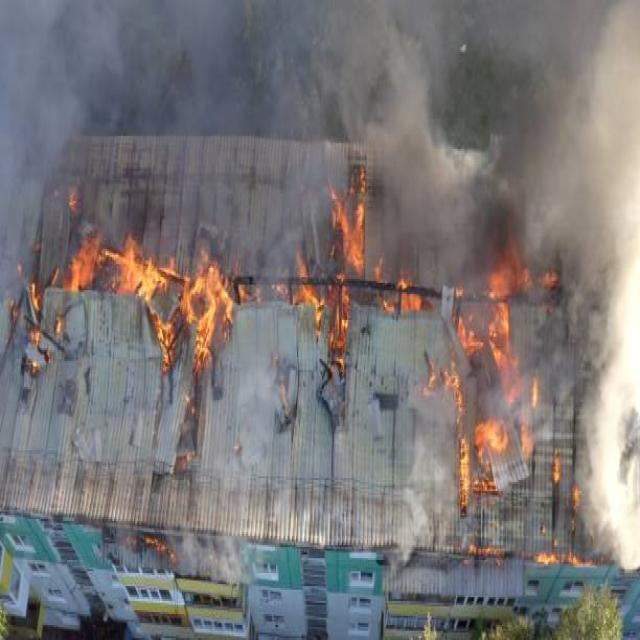Fire: (438, 286, 543, 499), (64, 225, 226, 353), (331, 189, 367, 295)
Smoke: (400, 0, 640, 519), (132, 0, 454, 307), (1, 0, 145, 381)
